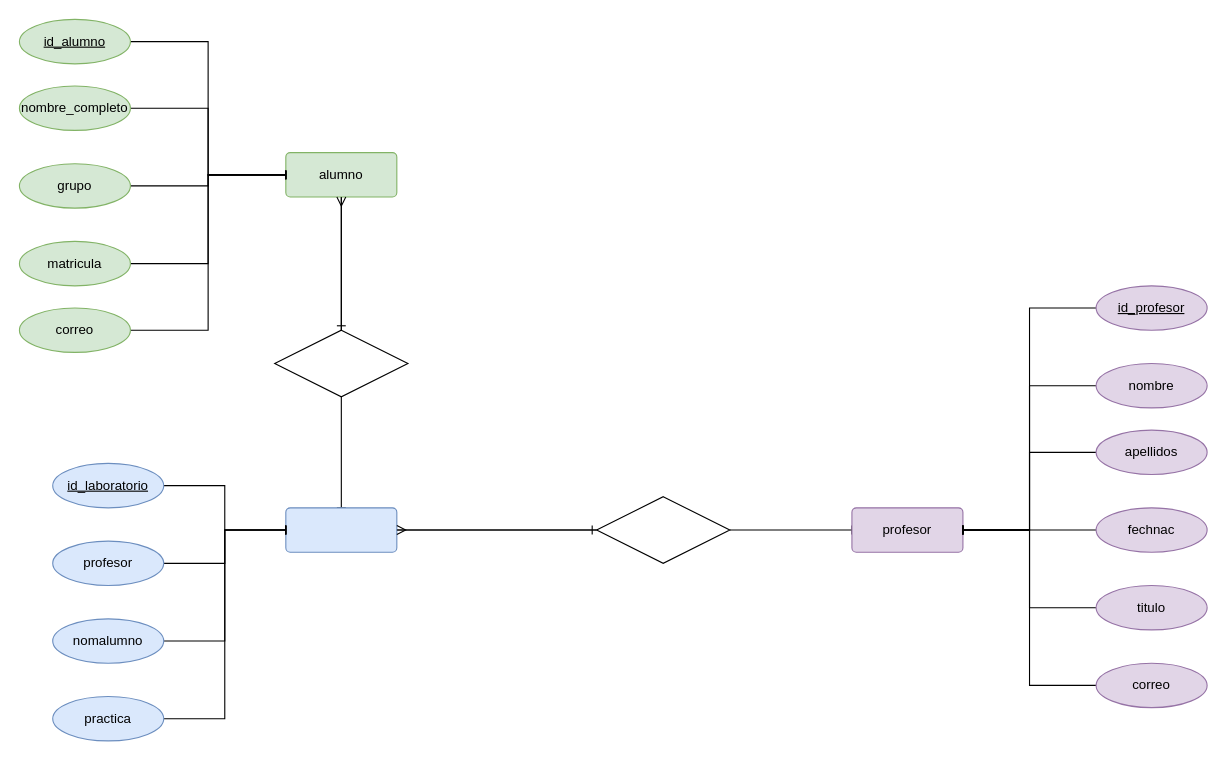
Some shapes in this 1227 by 760 pixel diagram are drawn without their labels. The shapes that lost their labels are listed below. From the top down, each one's box as (x1, y1, x2, y2) in pixels, then its label:
(274, 329, 408, 397): realiza
(285, 507, 397, 552): practicas
(596, 496, 730, 563): tiene
